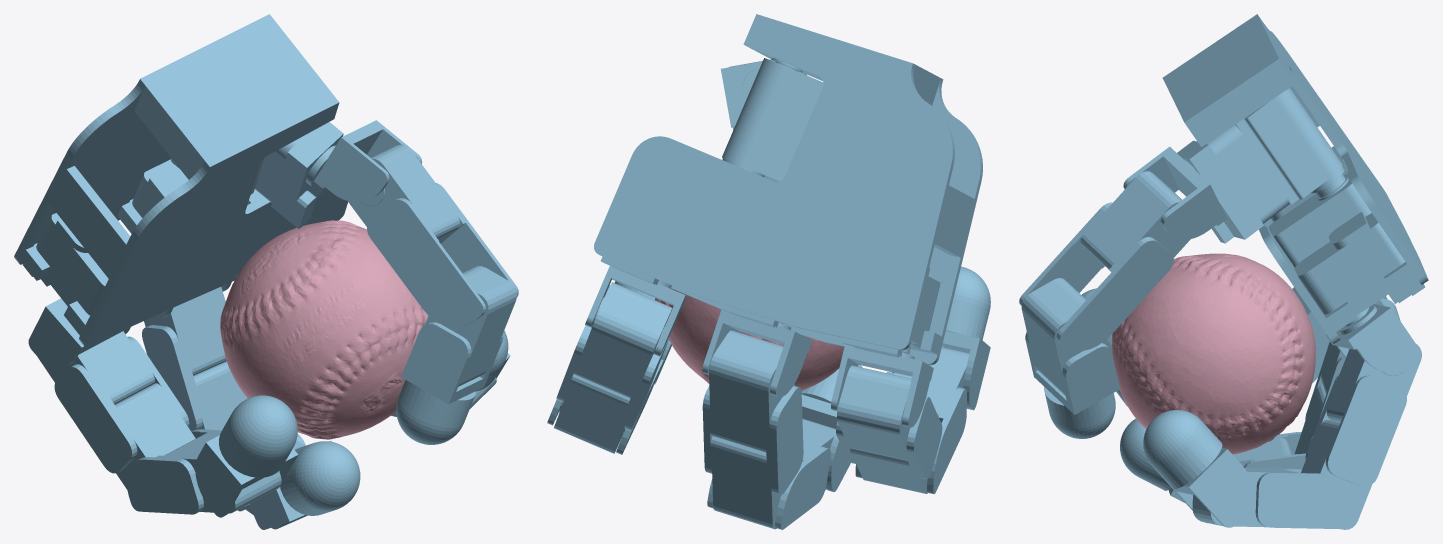
The picture shows the model from 3 angles, left to right: view 1: azimuth 30°, elevation 25°; view 2: azimuth 150°, elevation 25°; view 3: azimuth 270°, elevation 25°; orthographic projection. The views are drawn at different scales.
Visible parts, largest first — view 1: world, baseball.stl; view 2: world, baseball.stl; view 3: world, baseball.stl.
Boxes of the visible parts, x1=… form: world: x1=14, y1=14, x2=518, y2=529; baseball.stl: x1=220, y1=220, x2=428, y2=439; world: x1=547, y1=14, x2=990, y2=529; baseball.stl: x1=655, y1=288, x2=844, y2=390; world: x1=1019, y1=14, x2=1428, y2=529; baseball.stl: x1=1112, y1=253, x2=1315, y2=454.
Size of the model in its own units: 0.1568 by 0.1801 by 0.146.
